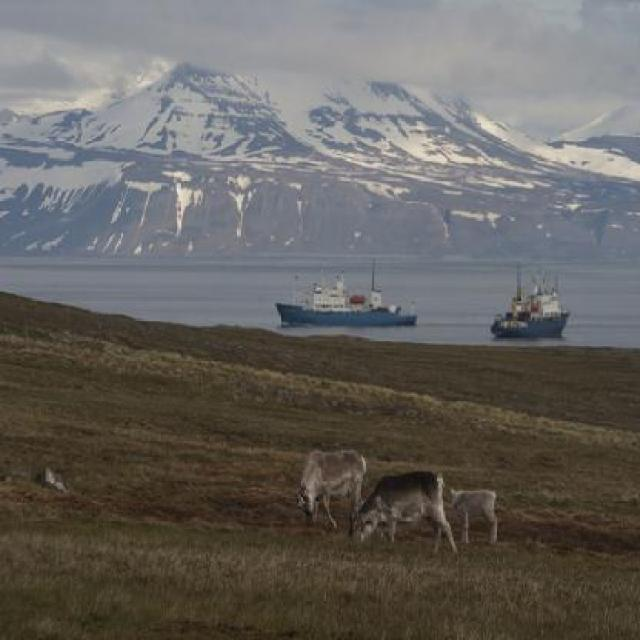ship: (274, 276, 418, 324), (488, 286, 570, 334)
